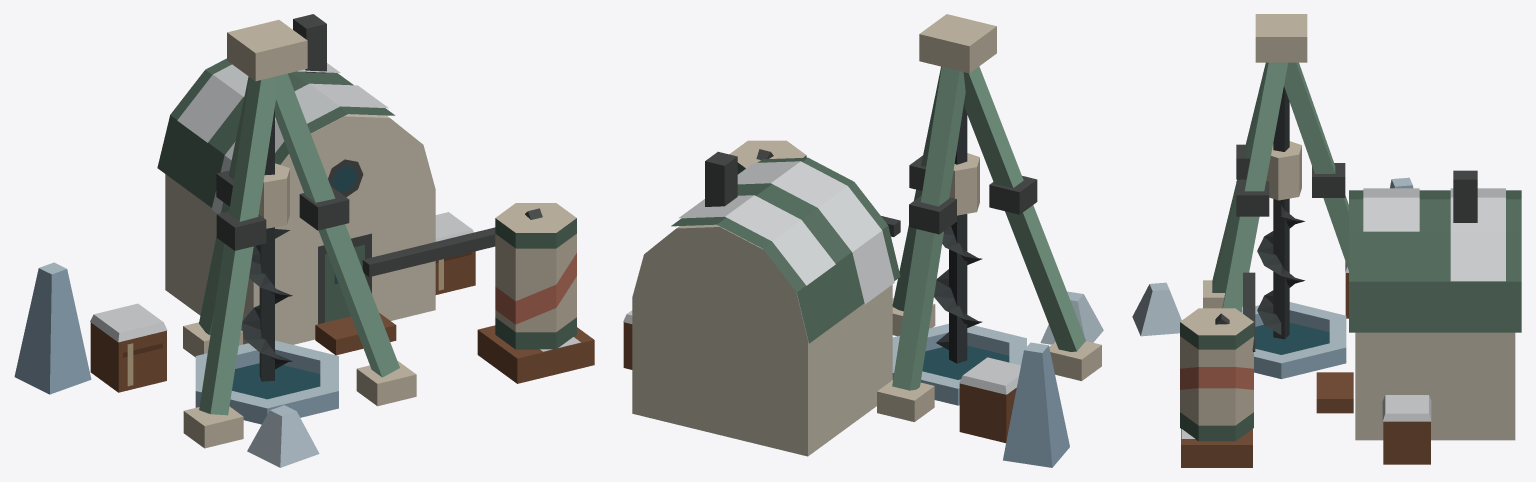
Rendered from ice_drill.glb.
The picture shows the model from 3 angles, left to right: view 1: azimuth 30°, elevation 25°; view 2: azimuth 150°, elevation 25°; view 3: azimuth 270°, elevation 25°; orthographic projection. The views are drawn at different scales.
Parts seen in each view (by area): view 1: ice_drill; view 2: ice_drill; view 3: ice_drill.
Part boxes in pixels (x1,y1,x2,y2): ice_drill: (14, 14, 594, 467); ice_drill: (623, 14, 1103, 467); ice_drill: (1132, 14, 1521, 467).
Size of the model in its own units: 0.4584 by 0.3473 by 0.3806.
